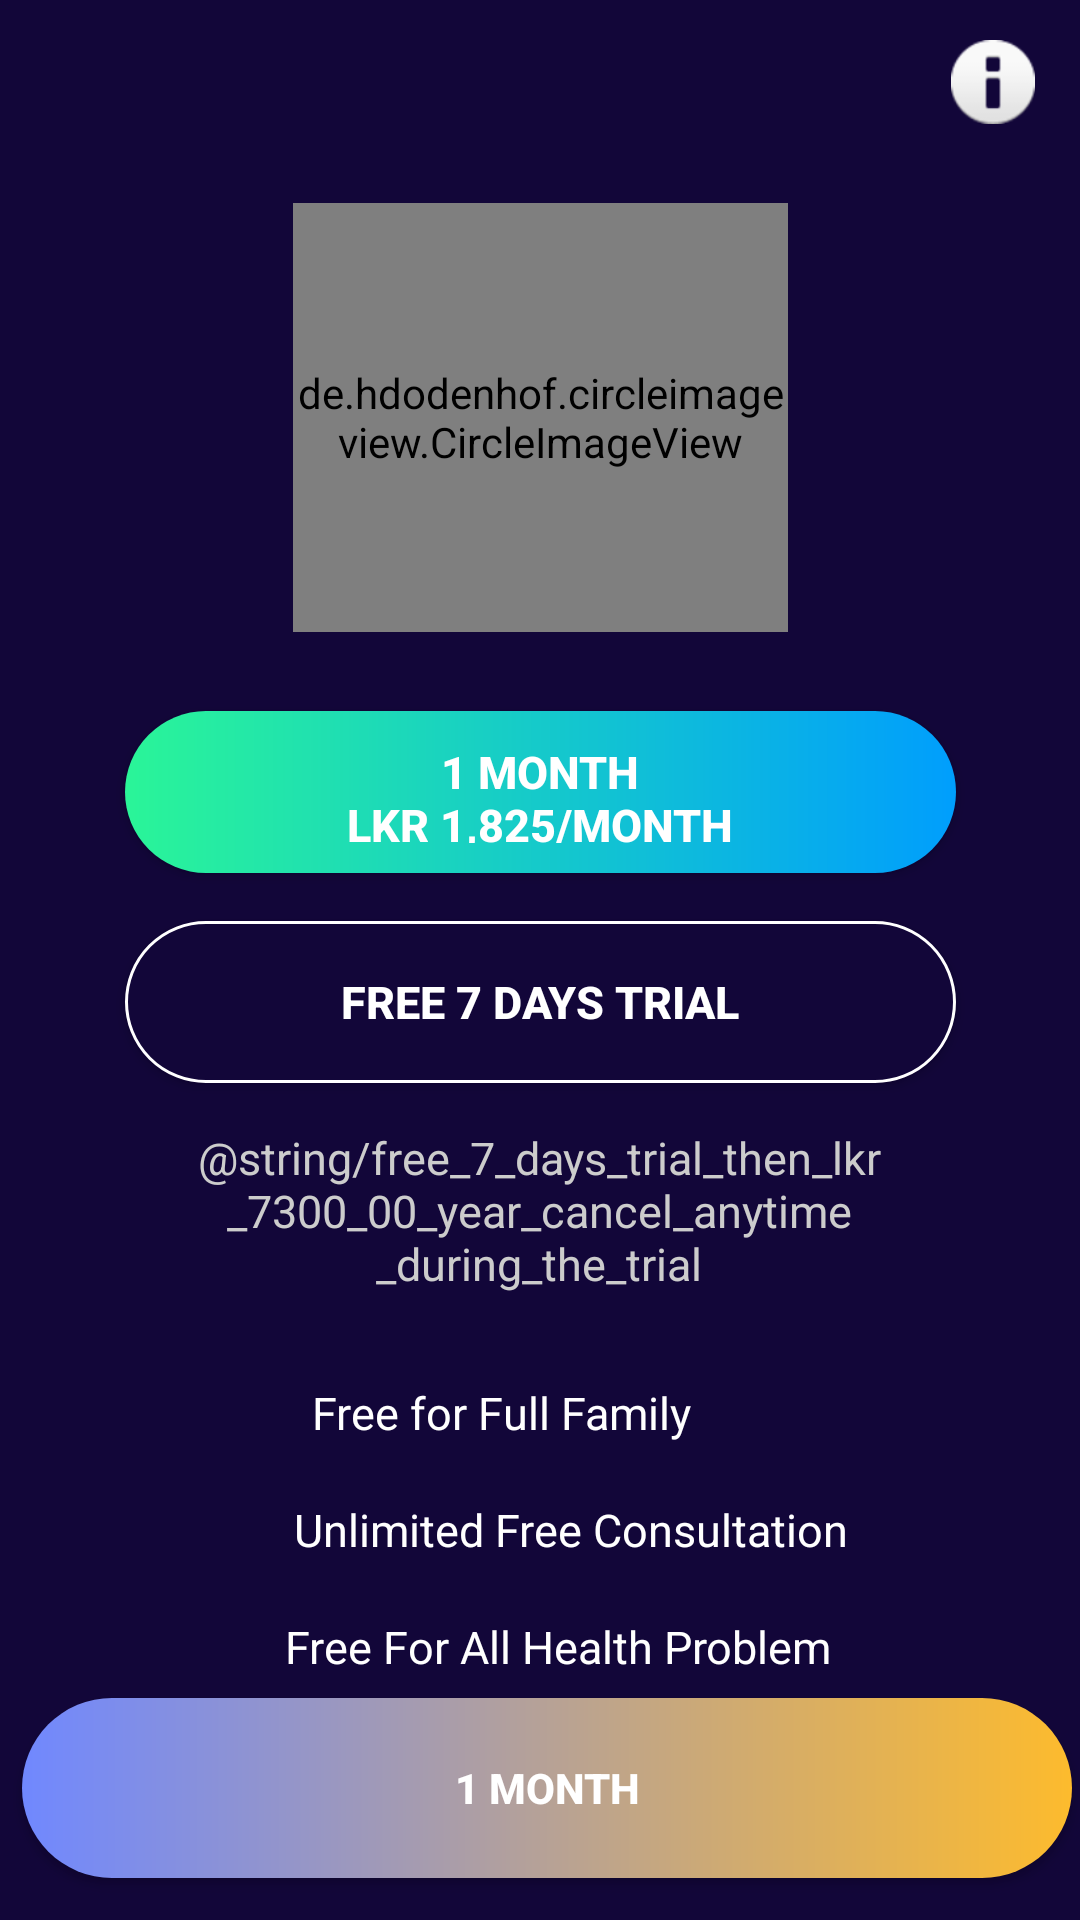

Named icons in this screenshot (1080 × 1920) and their centers, (x=x, y=y):
info: (x=993, y=82)
